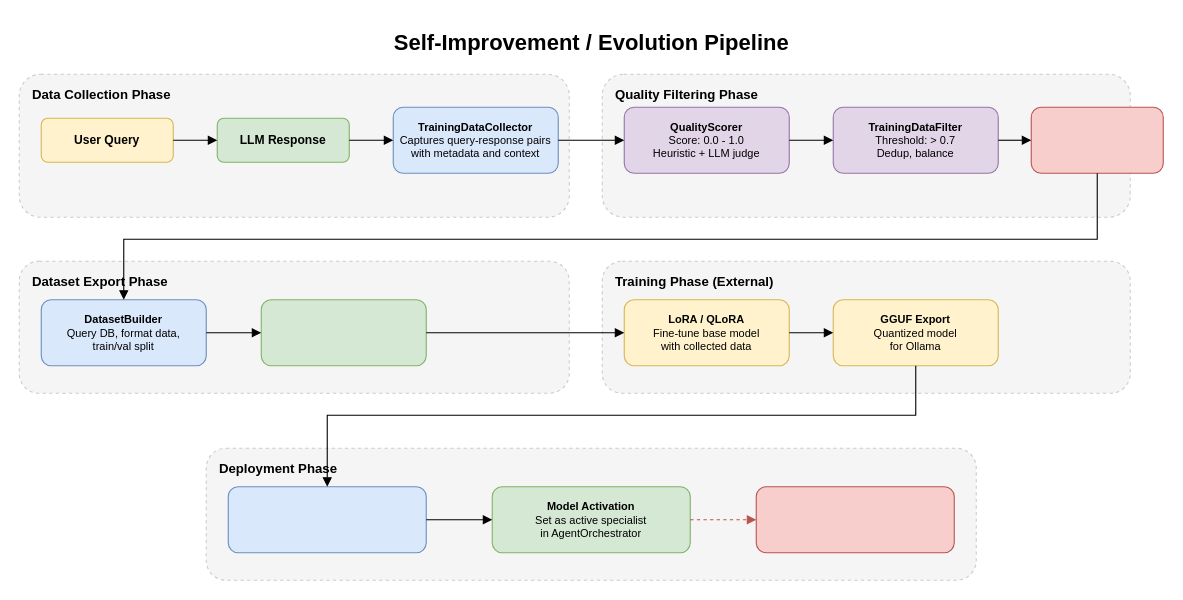
The diagram is 1183 pixels wide and 600 high, and some of its shapes have lost their labels. Each missing label, with the centre of its shape:
"Database training_data table" belongs at pixel 1096 139.
"JSONL Export {instruction, input, output} format" belongs at pixel 343 332.
"LocalModelRegistry Register new model version Track lineage + metrics" belongs at pixel 326 519.
"Rollback Revert to previous model if quality drops" belongs at pixel 854 519.
